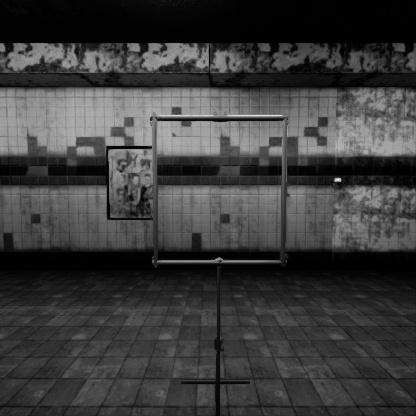gate: (152, 149, 300, 301)
